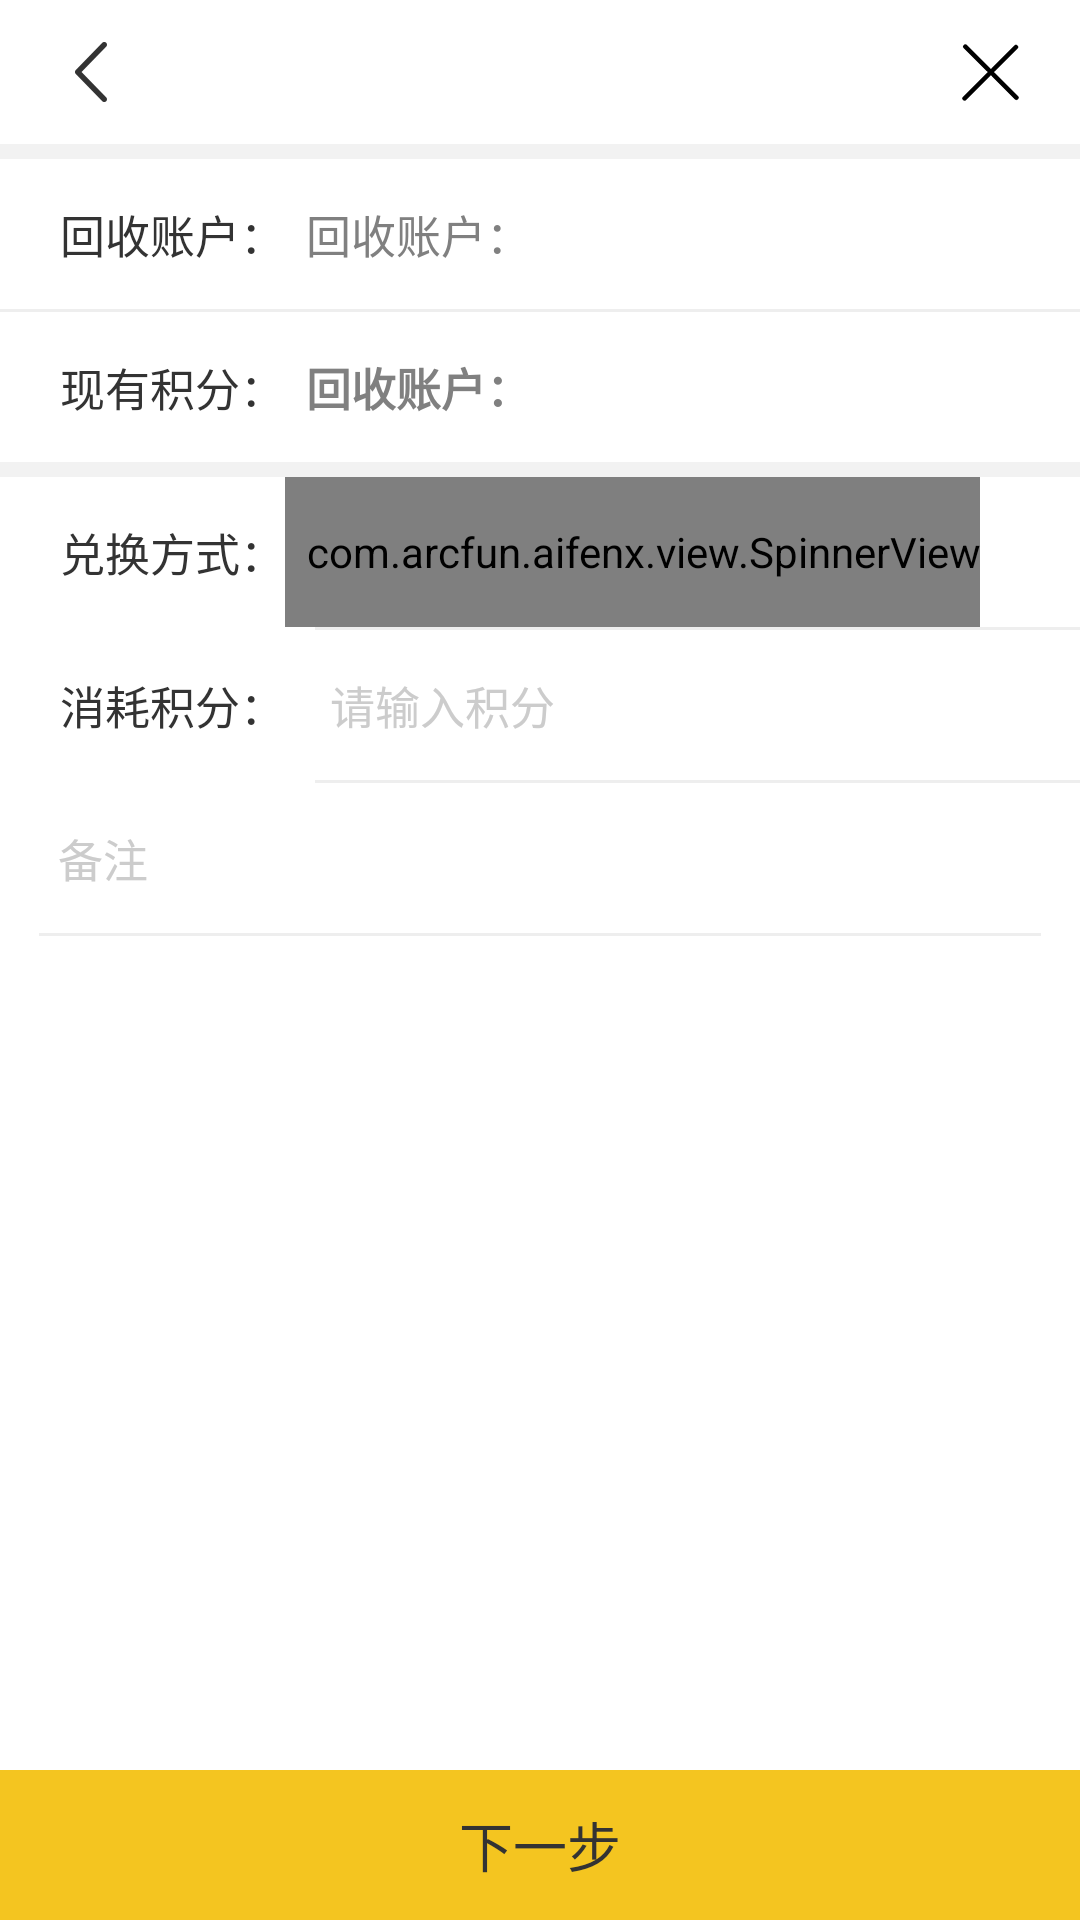

Named icons in this screenshot (1080 × 1920) and their bounding boxes, (x1, y1, x2, y2):
上一步: (75, 42, 107, 102)
